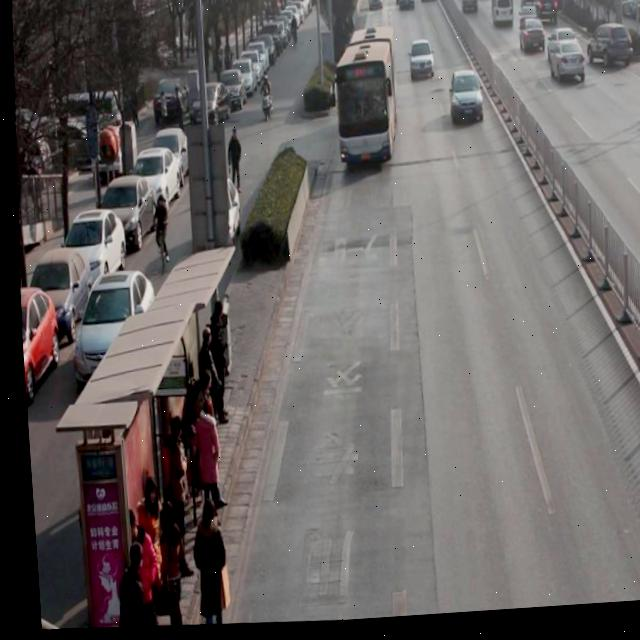car: (61, 267, 157, 387), (184, 178, 240, 257), (583, 30, 634, 80), (446, 76, 484, 130), (547, 49, 585, 94), (407, 45, 434, 86), (545, 33, 576, 66), (517, 26, 546, 61), (534, 0, 559, 30), (490, 0, 513, 32), (517, 10, 538, 31), (398, 0, 415, 18), (518, 0, 537, 15), (367, 0, 383, 16), (418, 0, 435, 8), (474, 0, 489, 4), (493, 0, 511, 3)
truck: (461, 0, 478, 17)
van: (328, 33, 399, 170)
